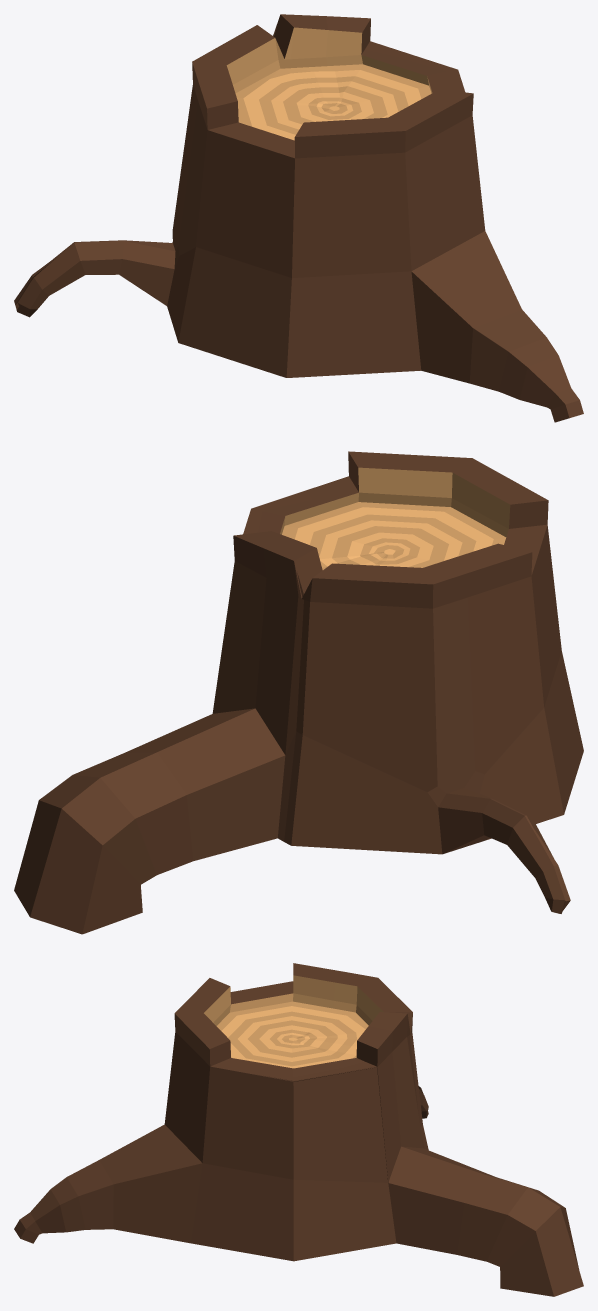
The model's file is Tree Stump.fbx.
The picture shows the model from 3 angles, top to bottom: view 1: azimuth 30°, elevation 25°; view 2: azimuth 150°, elevation 25°; view 3: azimuth 270°, elevation 25°; orthographic projection. The views are drawn at different scales.
Parts seen in each view (by area): view 1: Circle; view 2: Circle; view 3: Circle.
Boxes of the visible parts, x1,y1,x2,y2 form: Circle: (14, 14, 583, 422); Circle: (14, 451, 583, 934); Circle: (14, 963, 583, 1296).
Bounding box in the file's own units: 438 × 279 × 635.
